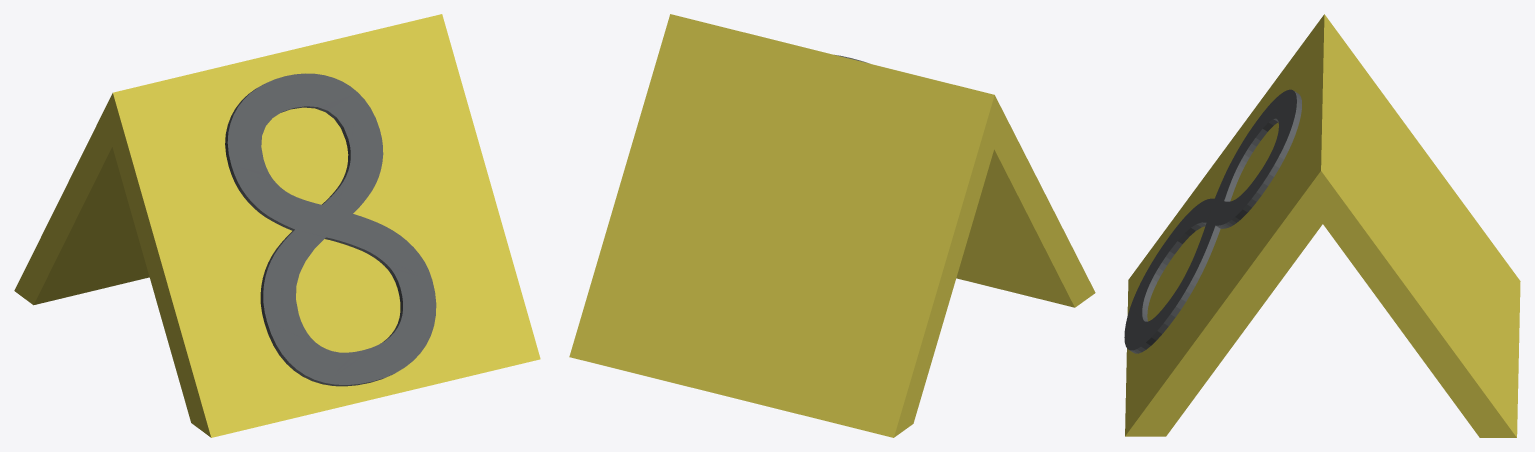
The model's file is bord8.gltf.
The picture shows the model from 3 angles, left to right: view 1: azimuth 30°, elevation 25°; view 2: azimuth 150°, elevation 25°; view 3: azimuth 270°, elevation 25°; orthographic projection.
Parts seen in each view (by area): view 1: Mesh_Mesh_head_geo.001_lambert2SG.001; view 2: Mesh_Mesh_head_geo.001_lambert2SG.001; view 3: Mesh_Mesh_head_geo.001_lambert2SG.001.
Part boxes in pixels (x1,y1,x2,y2): Mesh_Mesh_head_geo.001_lambert2SG.001: (14,14,540,437); Mesh_Mesh_head_geo.001_lambert2SG.001: (569,14,1095,437); Mesh_Mesh_head_geo.001_lambert2SG.001: (1124,14,1520,437).
Size of the model in its own units: 19.09 by 15 by 20.2.
